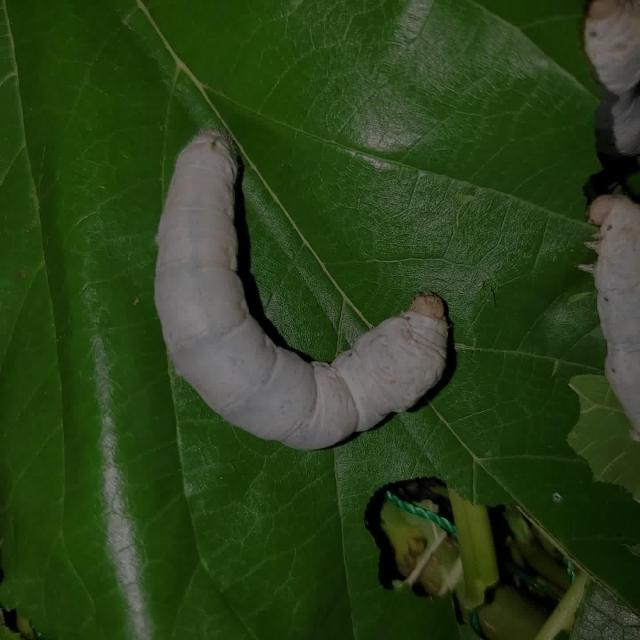Healthy: (125, 92, 492, 473)
